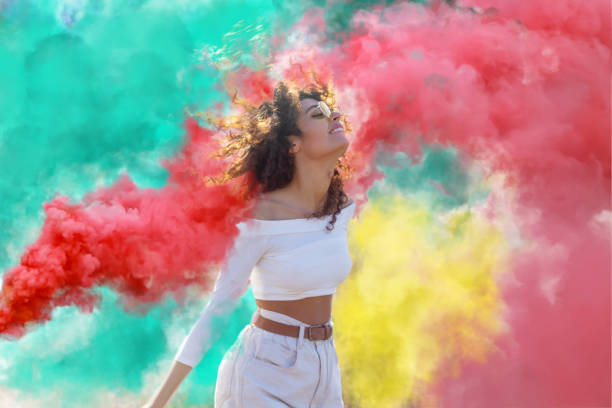without mask: (274, 92, 356, 165)
